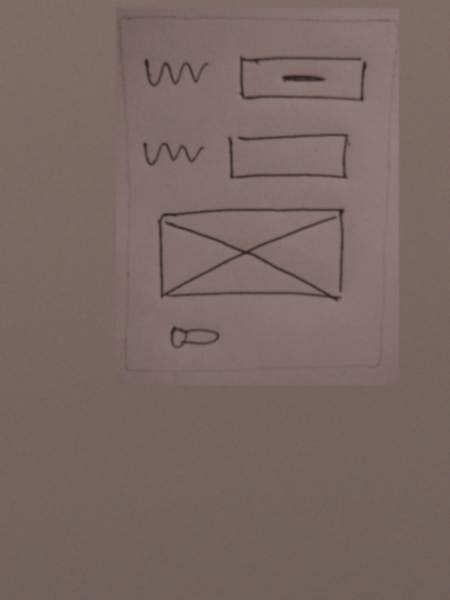button: (234, 48, 369, 109)
image: (151, 204, 348, 306)
switch: (161, 319, 226, 353)
text: (139, 135, 209, 172), (139, 55, 212, 89)
text_input: (223, 128, 352, 184)
